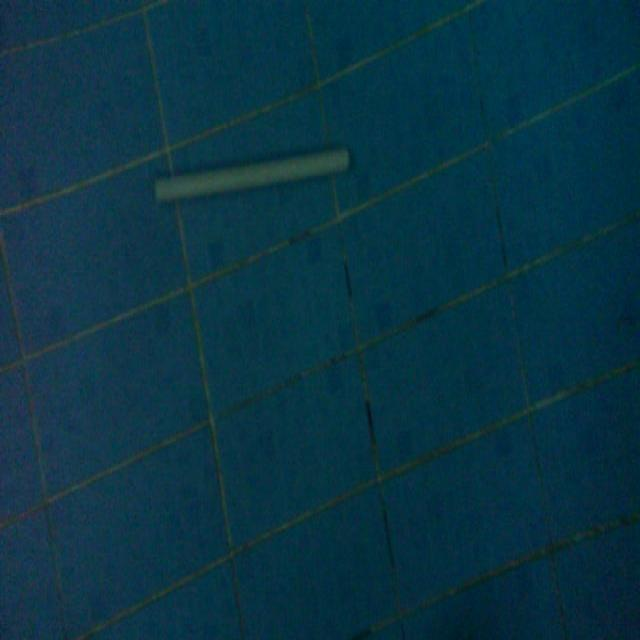Cube: (152, 140, 352, 207)
